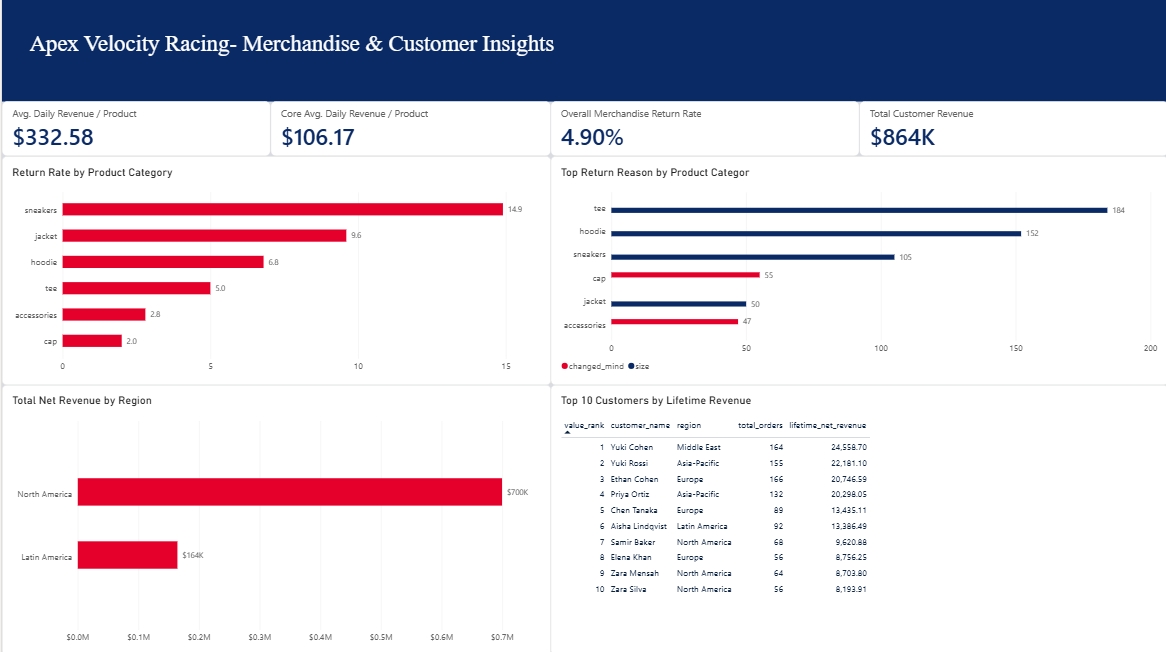

Layout of this report page (visuals, bound fields, positions):
{"tool":"powerbi","page":{"name":"Merchandise & Customer Insights","canvas":[1920,1080],"ordinal":3},"visuals":[{"type":"shape","box":[0,0,1920.4,167.3],"z":0},{"type":"textbox","box":[44.5,49.8,1315.2,117.5],"z":1000},{"type":"cardVisual","fields":{"Data":["Avg(Q7_limited_drop_lifecycle_results_PARTB.avg_revenue_per_product_per_day)"]},"box":[0,166.7,442.5,90.6],"z":2000},{"type":"cardVisual","fields":{"Data":["Avg(Q7_limited_drop_lifecycle_results_PARTB.avg_revenue_per_product_per_day)"]},"box":[442.5,166.7,461.1,90.6],"z":3000},{"type":"cardVisual","fields":{"Data":["Q1_fitness_vs_pace_results.Overall Return Rate"]},"box":[903.6,166.7,508.4,90.6],"z":4000},{"type":"cardVisual","fields":{"Data":["Sum(Q9_customer_value_by_region_results_PARTA.total_net_revenue)"]},"box":[1412,166.7,508.4,90.6],"z":5000},{"type":"clusteredBarChart","title":"Return Rate by Product Category","fields":{"Category":["Q8_returns_by_category_results_PARTA.category"],"Y":["Sum(Q8_returns_by_category_results_PARTA.return_rate_pct)"]},"box":[0,257.3,903.6,376.7],"z":5001},{"type":"clusteredBarChart","title":"Top Return Reason by Product Categor","fields":{"Category":["Q8_returns_by_category_results_PARTB.category"],"Series":["Q8_returns_by_category_results_PARTB.top_return_reason"],"Y":["Sum(Q8_returns_by_category_results_PARTB.times_cited)"]},"box":[903.6,257.3,1016.8,376.7],"z":5002},{"type":"clusteredBarChart","title":"Total Net Revenue by Region","fields":{"Category":["Q9_customer_value_by_region_results_PARTA.region"],"Y":["Sum(Q9_customer_value_by_region_results_PARTA.total_net_revenue)"]},"box":[0,634,903.6,446.7],"z":5003},{"type":"tableEx","title":"Top 10 Customers by Lifetime Revenue","fields":{"Values":["Q9_customer_value_by_region_results_PARTB.value_rank","Q9_customer_value_by_region_results_PARTB.customer_name","Q9_customer_value_by_region_results_PARTB.region","Q9_customer_value_by_region_results_PARTB.total_orders","Q9_customer_value_by_region_results_PARTB.lifetime_net_revenue"]},"box":[903.6,634,1016.8,446.7],"z":5004}]}

Visuals, with their boxes in screenshot pixels (x1, y1, x2, y2), scaled from the page's 1920x1080 canvas onto the 1166x652 screenshot:
shape: x1=0 y1=0 x2=1165 y2=101
textbox: x1=27 y1=30 x2=826 y2=101
cardVisual - Avg(Q7_limited_drop_lifecycle_results_PARTB.avg_revenue_per_product_per_day): x1=0 y1=101 x2=269 y2=155
cardVisual - Avg(Q7_limited_drop_lifecycle_results_PARTB.avg_revenue_per_product_per_day): x1=269 y1=101 x2=549 y2=155
cardVisual - Q1_fitness_vs_pace_results.Overall Return Rate: x1=549 y1=101 x2=857 y2=155
cardVisual - Sum(Q9_customer_value_by_region_results_PARTA.total_net_revenue): x1=857 y1=101 x2=1165 y2=155
"Return Rate by Product Category" clusteredBarChart: x1=0 y1=155 x2=549 y2=383
"Top Return Reason by Product Categor" clusteredBarChart: x1=549 y1=155 x2=1165 y2=383
"Total Net Revenue by Region" clusteredBarChart: x1=0 y1=383 x2=549 y2=651
"Top 10 Customers by Lifetime Revenue" tableEx: x1=549 y1=383 x2=1165 y2=651
